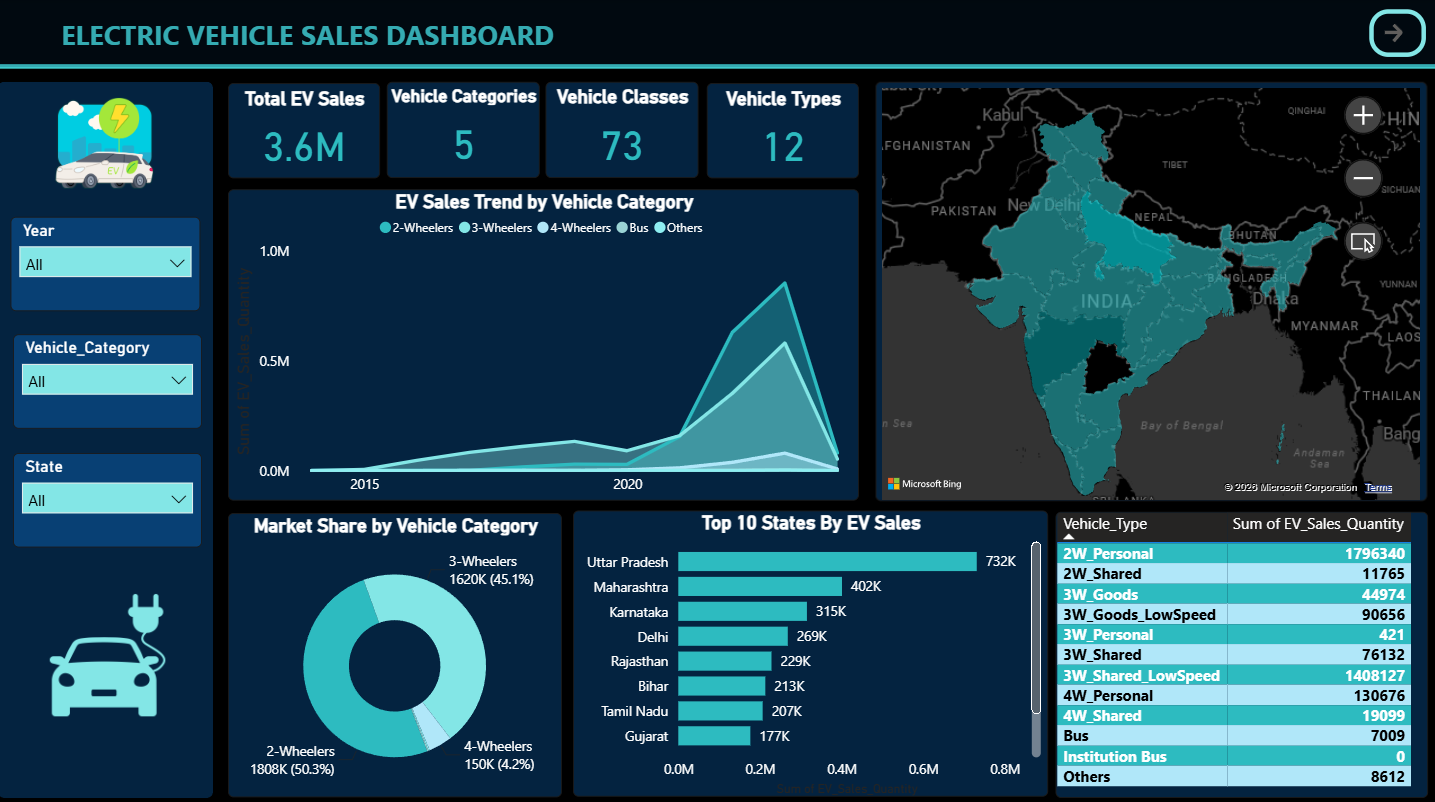

Layout of this report page (visuals, bound fields, positions):
{"tool":"powerbi","page":{"name":"EV Market Overview & Regional Insights","canvas":[1280,720],"ordinal":0},"visuals":[{"type":"shape","box":[0,48,1919.7,26.1],"z":0},{"type":"textbox","box":[50.8,11,728.6,50.8],"z":1000},{"type":"donutChart","title":"Market Share by Vehicle Category","fields":{"Y":["Sum(electric_cleaned.EV_Sales_Quantity)"],"Category":["electric_cleaned.Vehicle_Category"]},"box":[204.4,457.4,297.1,252.9],"z":2000},{"type":"shape","box":[0,0,1280.9,61.8],"z":3000},{"type":"shape","box":[0,74.4,191.1,636.7],"z":4000},{"type":"card","title":"Total EV Sales","fields":{"Values":["Sum(electric_cleaned.EV_Sales_Quantity)"]},"box":[204.3,75.7,135,85],"z":5000},{"type":"card","title":"Vehicle Categories","fields":{"Values":["Count(electric_cleaned.Vehicle_Category)"]},"box":[345.7,74.3,135.7,85.7],"z":6000},{"type":"card","title":"Vehicle Classes","fields":{"Values":["Count(electric_cleaned.Vehicle_Class)"]},"box":[487.1,74.3,135.7,85.7],"z":7000},{"type":"card","title":"Vehicle Types","fields":{"Values":["Count(electric_cleaned.Vehicle_Type)"]},"box":[630,75.7,135,85],"z":8000},{"type":"areaChart","title":"EV Sales Trend by Vehicle Category","fields":{"Category":["electric_cleaned.Year"],"Y":["Sum(electric_cleaned.EV_Sales_Quantity)"],"Series":["electric_cleaned.Vehicle_Category"]},"box":[204.4,170,561.1,276.7],"z":9000},{"type":"clusteredBarChart","title":"Top 10 States By EV Sales","fields":{"Y":["Sum(electric_cleaned.EV_Sales_Quantity)"],"Category":["electric_cleaned.State"]},"box":[511.1,455.6,422.2,254.4],"z":10000},{"type":"filledMap","title":"EV SALES BY STATES IN INDIA","fields":{"Category":["electric_cleaned.State"]},"box":[780,74.3,490,372.9],"z":11000},{"type":"tableEx","title":"EV SALES BY STATES IN INDIA","fields":{"Values":["electric_cleaned.Vehicle_Type","Sum(electric_cleaned.EV_Sales_Quantity)"]},"box":[940,456.7,331.1,254.4],"z":12000},{"type":"slicer","title":"Quantity Sold","fields":{"Values":["electric_cleaned.Year"]},"box":[11.4,194.3,168.6,84.3],"z":13000},{"type":"slicer","title":"Quantity Sold","fields":{"Values":["electric_cleaned.Vehicle_Category"]},"box":[13.2,298.5,167.6,83.8],"z":14000},{"type":"slicer","title":"Quantity Sold","fields":{"Values":["electric_cleaned.State"]},"box":[13.2,404.4,167.6,83.8],"z":15000},{"type":"actionButton","box":[1219.1,10.3,50,42.6],"z":16000},{"type":"image","box":[23.5,83.8,142.6,91.2],"z":17000},{"type":"image","box":[38.2,523.5,119.1,122.1],"z":18000}]}

Visuals, with their boxes in screenshot pixels (x1, y1, x2, y2), scaled from the page's 1280x720 canvas onto the 1435x802 screenshot:
shape: [left=0, top=53, right=1434, bottom=83]
textbox: [left=57, top=12, right=874, bottom=69]
"Market Share by Vehicle Category" donutChart: [left=229, top=509, right=562, bottom=791]
shape: [left=0, top=0, right=1434, bottom=69]
shape: [left=0, top=83, right=214, bottom=792]
"Total EV Sales" card: [left=229, top=84, right=380, bottom=179]
"Vehicle Categories" card: [left=388, top=83, right=540, bottom=178]
"Vehicle Classes" card: [left=546, top=83, right=698, bottom=178]
"Vehicle Types" card: [left=706, top=84, right=858, bottom=179]
"EV Sales Trend by Vehicle Category" areaChart: [left=229, top=189, right=858, bottom=498]
"Top 10 States By EV Sales" clusteredBarChart: [left=573, top=507, right=1046, bottom=791]
"EV SALES BY STATES IN INDIA" filledMap: [left=874, top=83, right=1424, bottom=498]
"EV SALES BY STATES IN INDIA" tableEx: [left=1054, top=509, right=1425, bottom=792]
"Quantity Sold" slicer: [left=13, top=216, right=202, bottom=310]
"Quantity Sold" slicer: [left=15, top=332, right=203, bottom=426]
"Quantity Sold" slicer: [left=15, top=450, right=203, bottom=544]
actionButton: [left=1367, top=11, right=1423, bottom=59]
image: [left=26, top=93, right=186, bottom=195]
image: [left=43, top=583, right=176, bottom=719]
